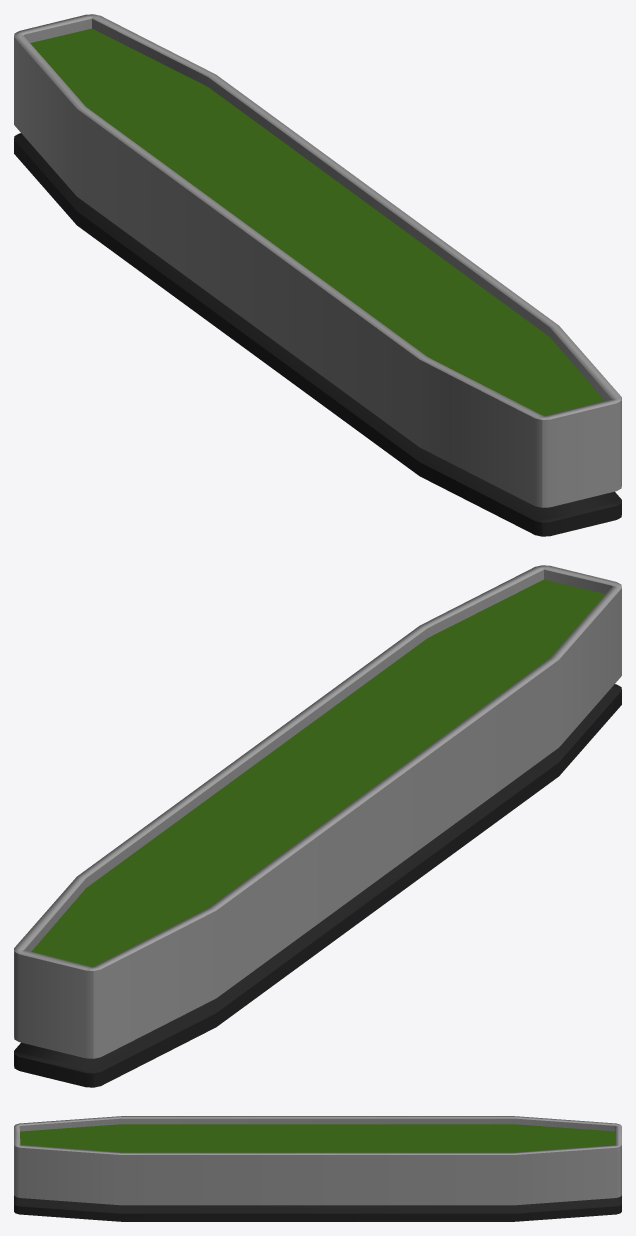
The model's file is W_O_Playground_Glassbed_L1.fbx.
3 renders of one model, top to bottom at view 1: azimuth 30°, elevation 25°; view 2: azimuth 150°, elevation 25°; view 3: azimuth 270°, elevation 25°, orthographic. The views are drawn at different scales.
Visible parts, largest first — view 1: W_O_Playground_Glassbed_L1; view 2: W_O_Playground_Glassbed_L1; view 3: W_O_Playground_Glassbed_L1.
Boxes of the visible parts, x1,y1,x2,y2 form: W_O_Playground_Glassbed_L1: [14, 14, 621, 536]; W_O_Playground_Glassbed_L1: [14, 565, 621, 1087]; W_O_Playground_Glassbed_L1: [14, 1116, 621, 1221].
Bounding box in the file's own units: 0.4555 × 3 × 0.364.
